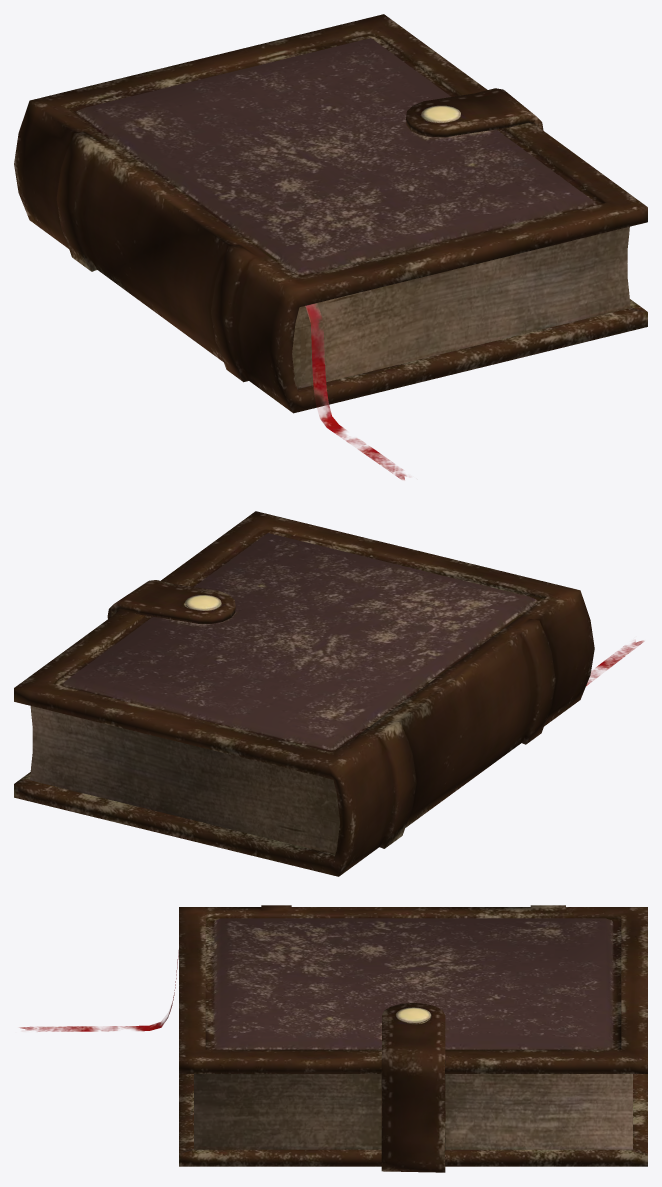
The model's file is book_leather.glb.
The picture shows the model from 3 angles, top to bottom: view 1: azimuth 30°, elevation 25°; view 2: azimuth 150°, elevation 25°; view 3: azimuth 270°, elevation 25°; orthographic projection. The views are drawn at different scales.
Parts seen in each view (by area): view 1: Book_low; view 2: Book_low; view 3: Book_low.
Part boxes in pixels (left/top/right/bottom): Book_low: left=14, top=14, right=647, bottom=479; Book_low: left=14, top=511, right=644, bottom=876; Book_low: left=19, top=905, right=647, bottom=1172.
Size of the model in its own units: 338 by 123 by 541.
1 material, 1 textured.
